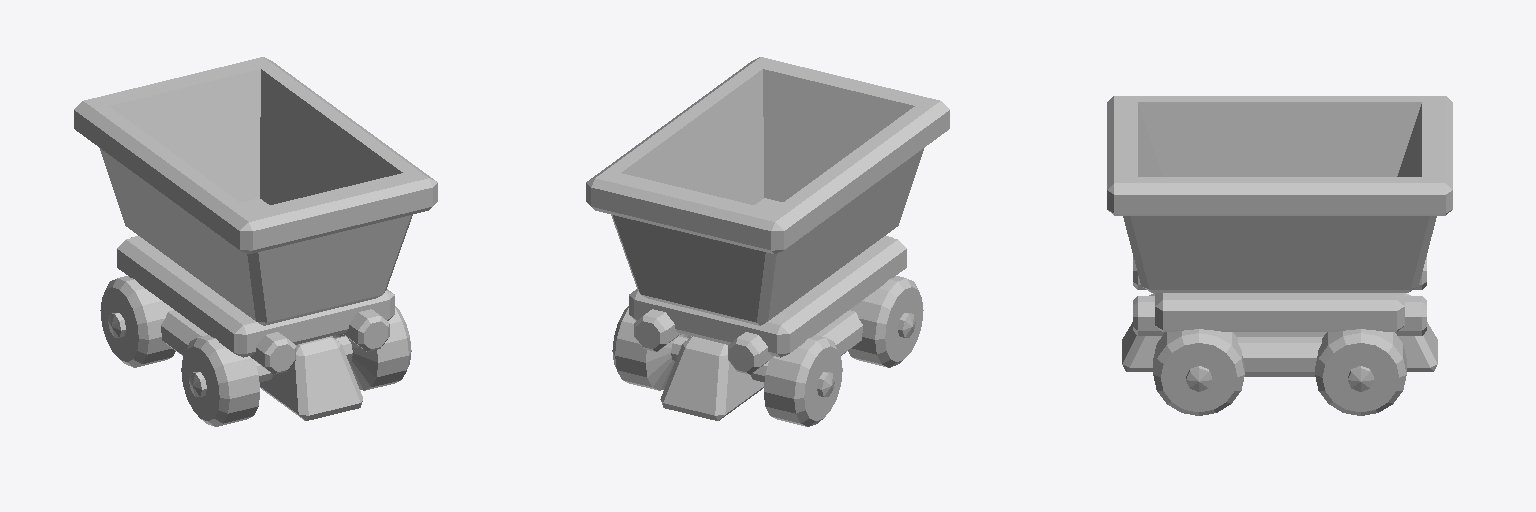
The model's file is train_tender_empty.obj.
The picture shows the model from 3 angles: view 1: azimuth 30°, elevation 25°; view 2: azimuth 150°, elevation 25°; view 3: azimuth 270°, elevation 25°; orthographic projection.
Visible parts, largest first — view 1: train_tender_empty; view 2: train_tender_empty; view 3: train_tender_empty.
Boxes of the visible parts, x1,y1,x2,y2 form: train_tender_empty: [74, 57, 437, 426]; train_tender_empty: [586, 57, 949, 426]; train_tender_empty: [1107, 96, 1452, 415].
Bounding box in the file's own units: 0.4459 × 0.4768 × 0.6421.